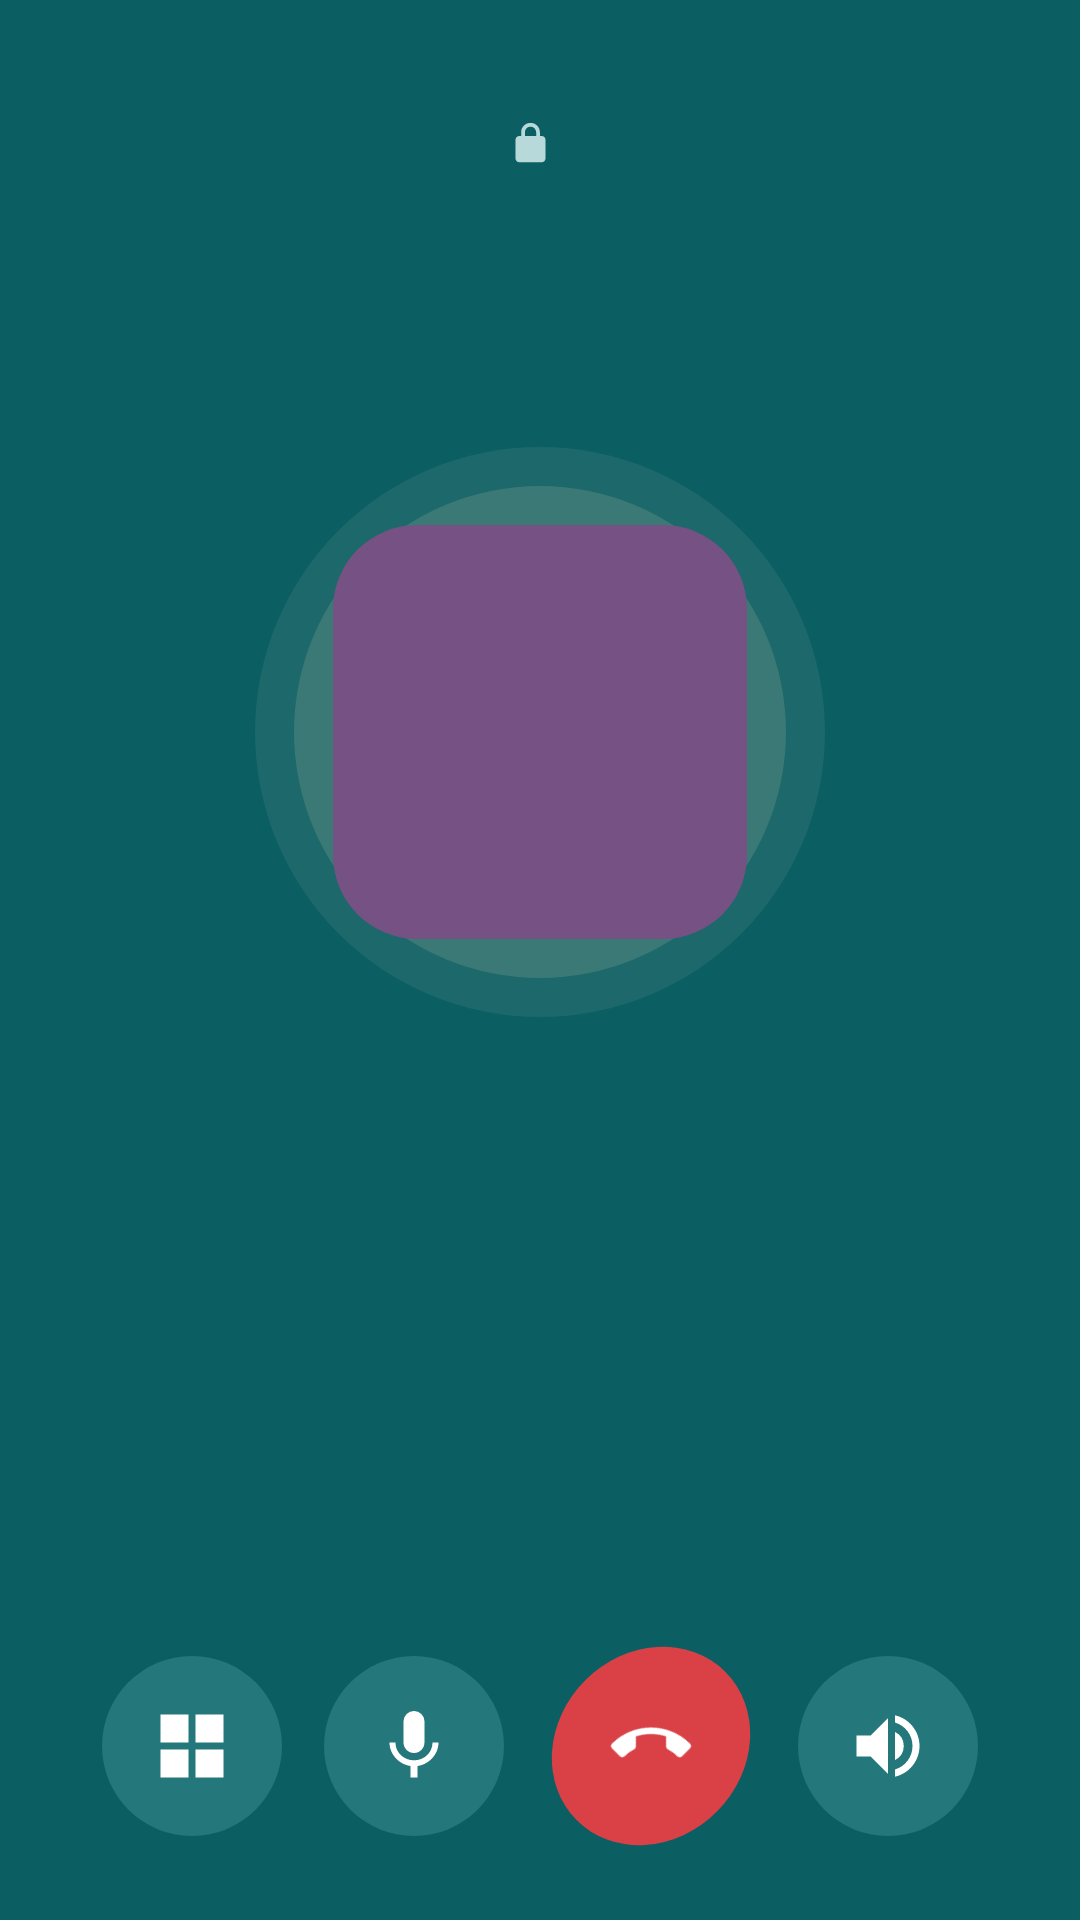

Locate icon controls on the screen. Image size 1080*1920, boxes as (x1, y1, x2, y2).
Keypad: (103, 1656, 281, 1836)
lock: (515, 123, 546, 163)
Mute: (325, 1656, 503, 1836)
Speaker: (799, 1656, 977, 1836)
